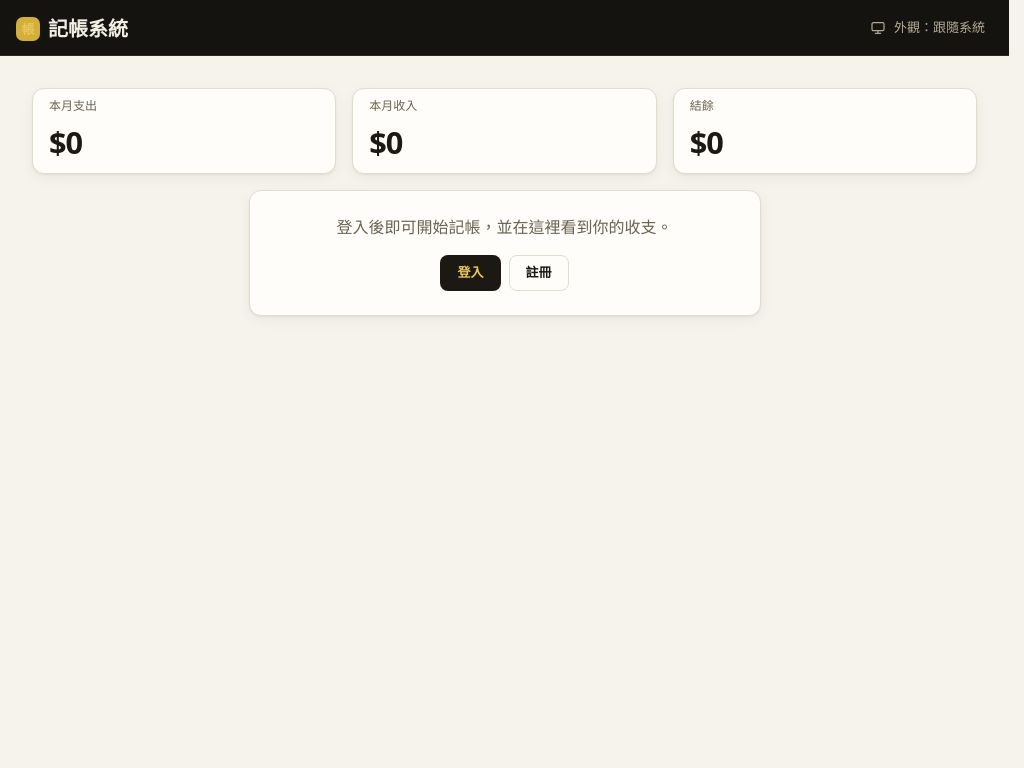
AuthDialog on the home page › opens the login form without leaving the page
Step 1. Click the button "登入" → (470, 273), box top-left (440, 255), bottom-right (500, 291)
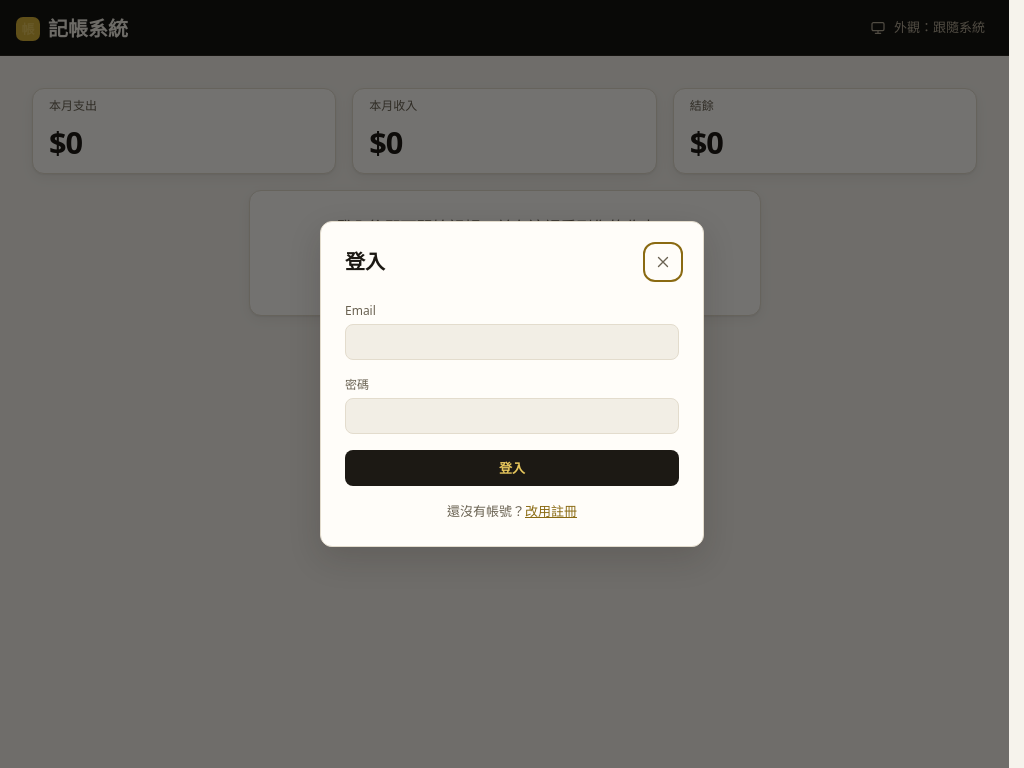
Now the field labelled "Email" is shown, box top-left (345, 324), bottom-right (679, 360)
Now the password field labelled "密碼" is shown, box top-left (345, 398), bottom-right (679, 434)
